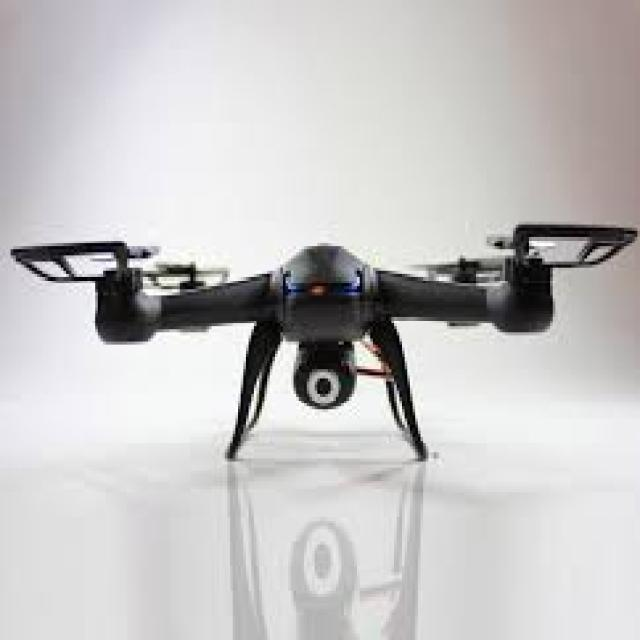drone: (0, 195, 640, 454)
